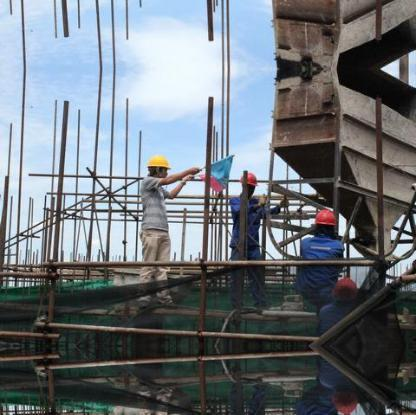helmet: (332, 278, 360, 297), (145, 152, 171, 172), (313, 208, 338, 226), (239, 169, 259, 190)
